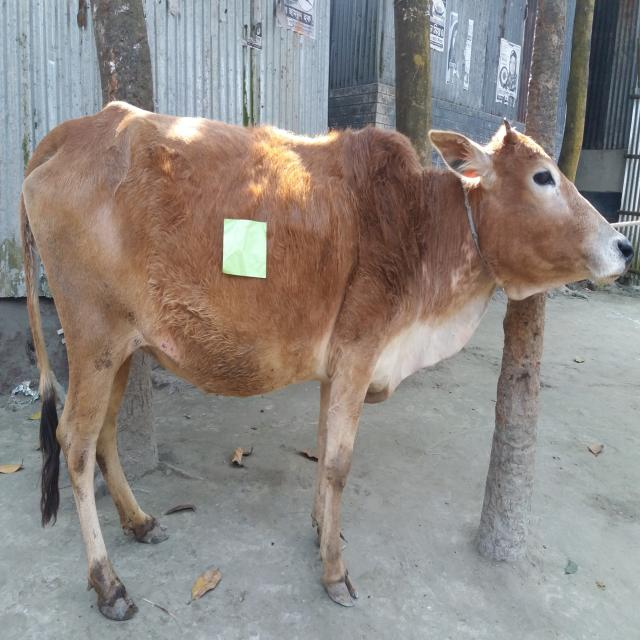badan_sapi: (51, 133, 376, 396)
sapi: (16, 97, 632, 622)
